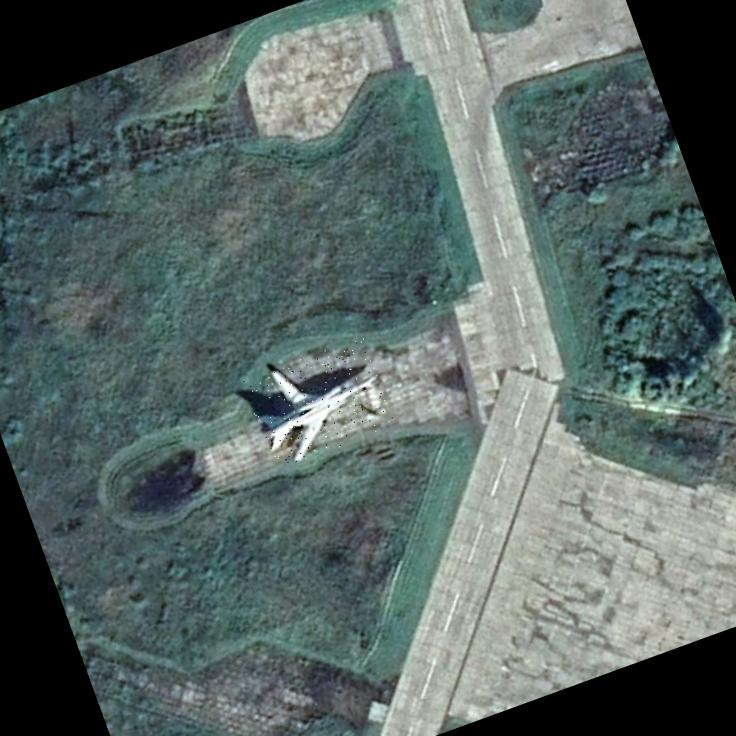A12: (240, 334, 396, 470)
